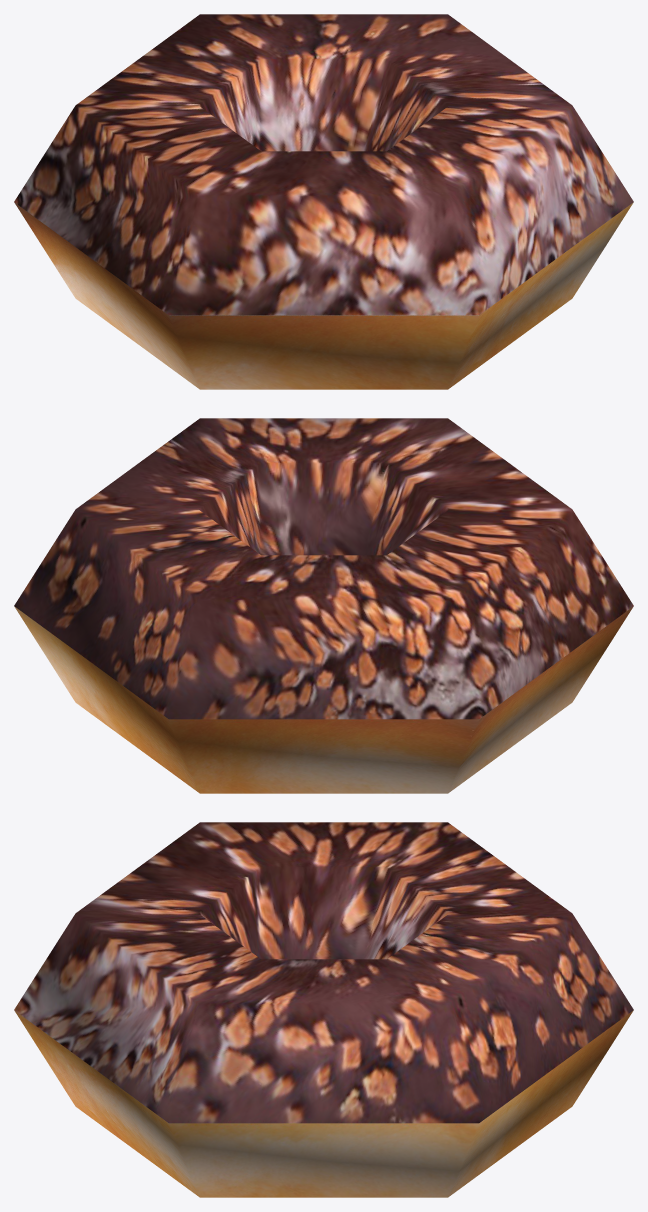
The model's file is donutchoco.fbx.
3 views of the same model, one above another, from view 1: azimuth 30°, elevation 25°; view 2: azimuth 150°, elevation 25°; view 3: azimuth 270°, elevation 25° (orthographic).
Visible parts, largest first — view 1: DonutSingle.004; view 2: DonutSingle.004; view 3: DonutSingle.004.
Boxes of the visible parts, x1,y1,x2,y2 form: DonutSingle.004: (14,14,633,389); DonutSingle.004: (14,418,633,793); DonutSingle.004: (14,822,633,1197).
Size of the model in its own units: 46.5 by 18.45 by 53.7.
